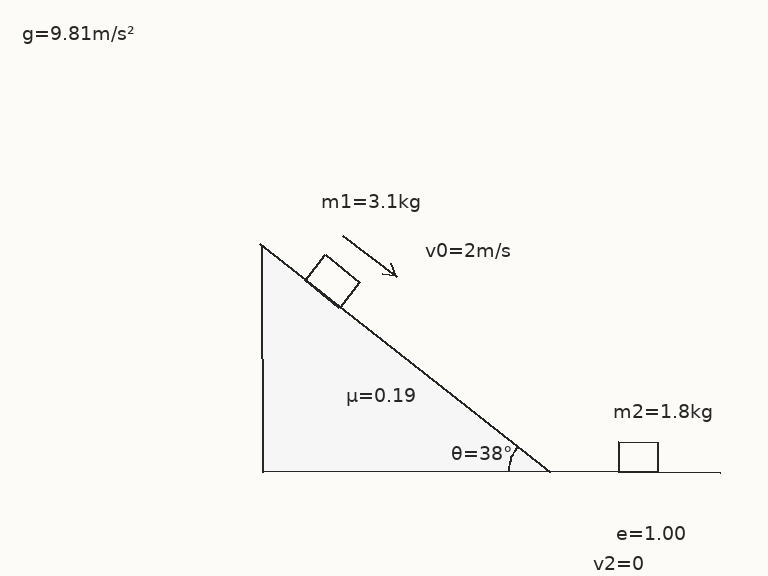block: (303, 253, 361, 309), (616, 440, 660, 473)
ramp: (259, 244, 551, 473)
